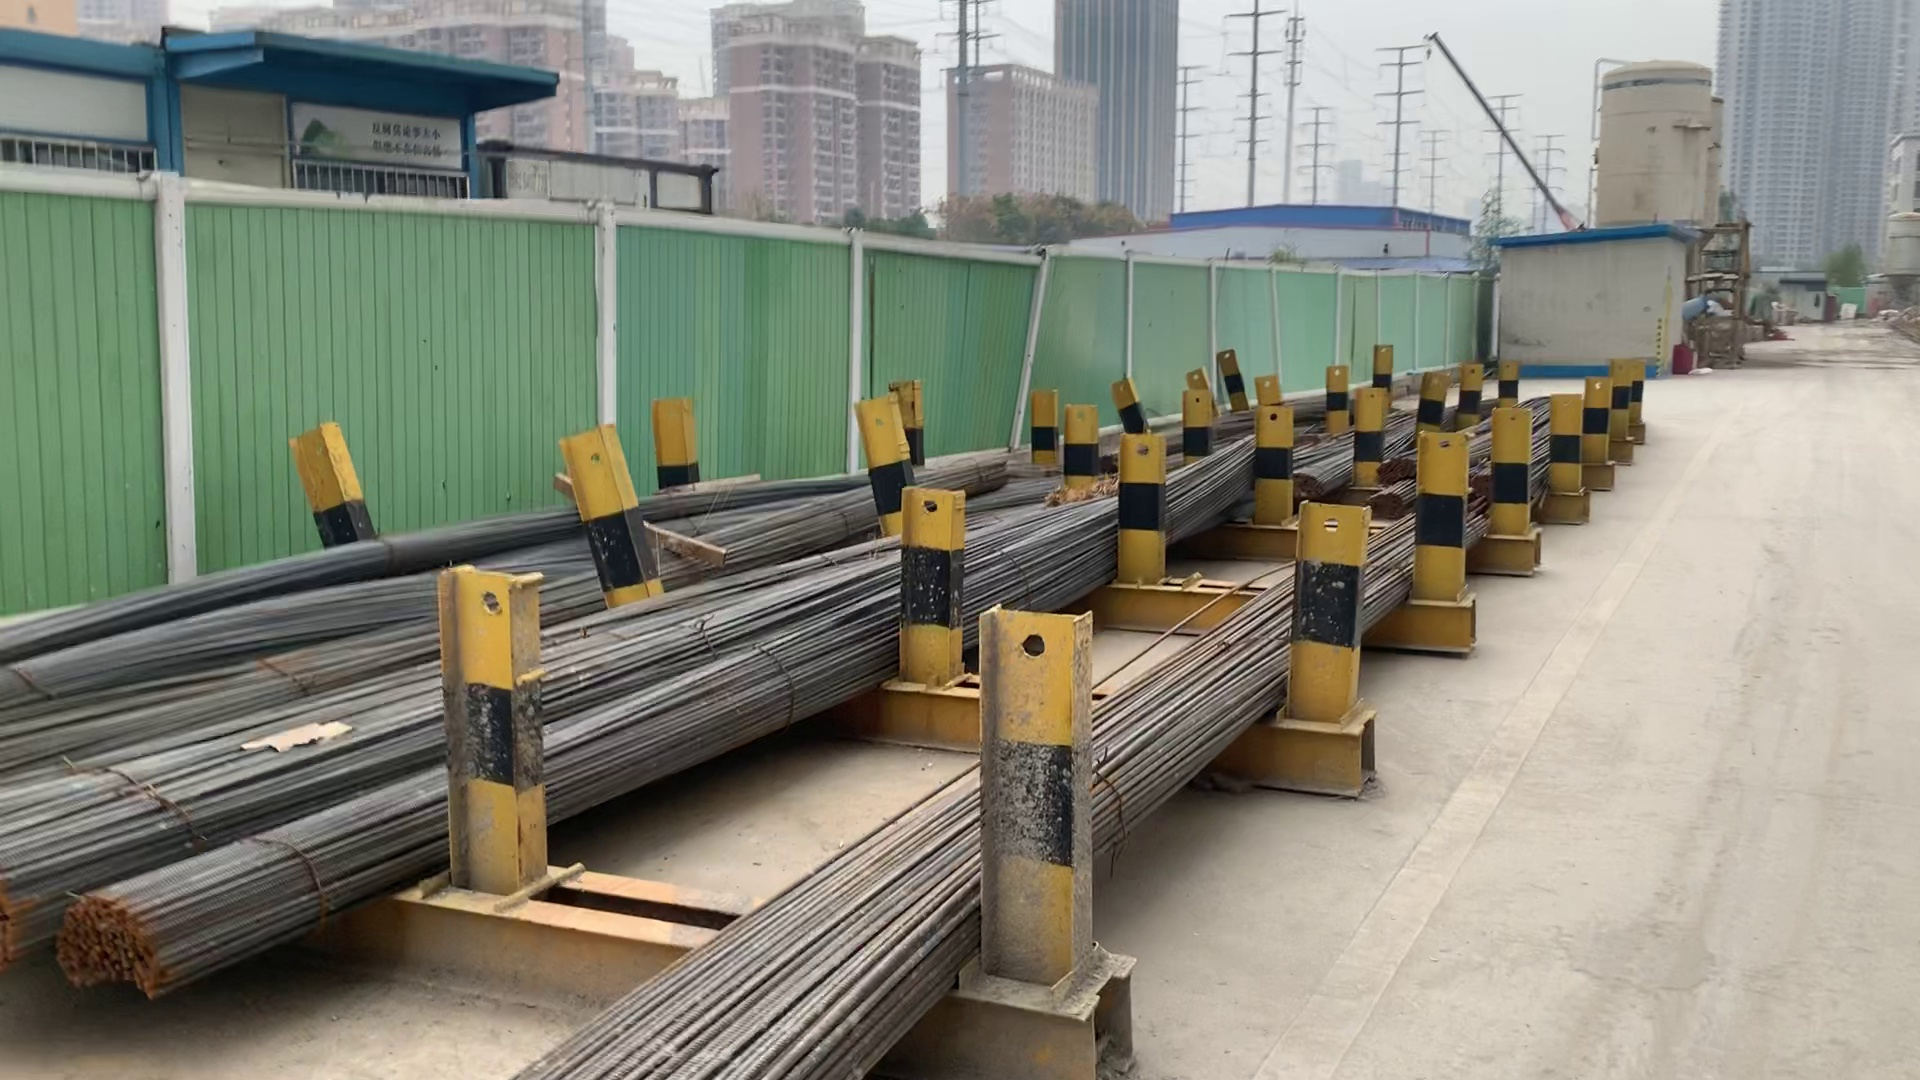rebar: (61, 899, 167, 992), (1288, 469, 1335, 498), (1370, 491, 1410, 518), (1381, 446, 1415, 475)
